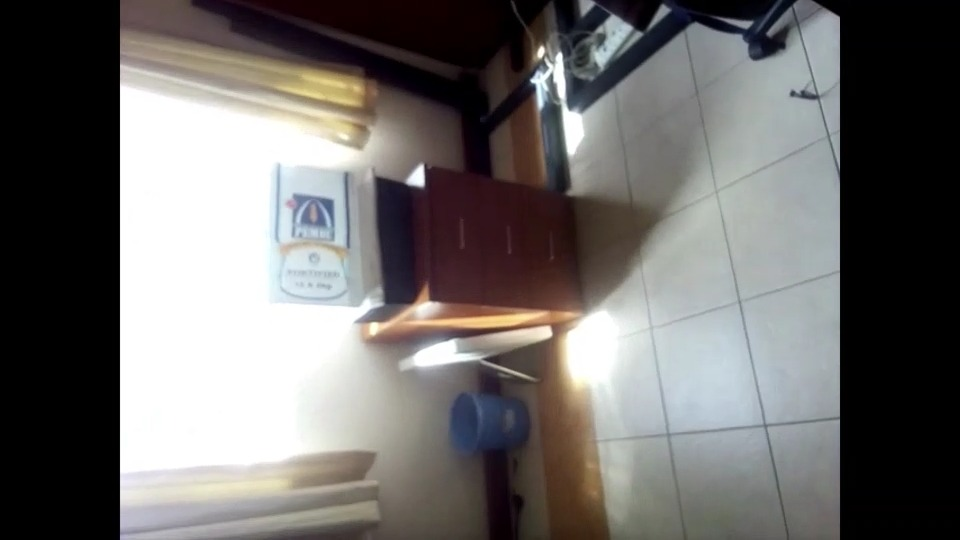wheat_flour_blue_label: (274, 169, 373, 300)
